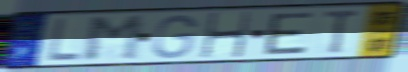E: (263, 11, 316, 56)
G: (150, 13, 199, 61)
H: (199, 10, 254, 60)
L: (44, 16, 83, 63)
M: (82, 13, 146, 63)
T: (322, 8, 363, 56)
